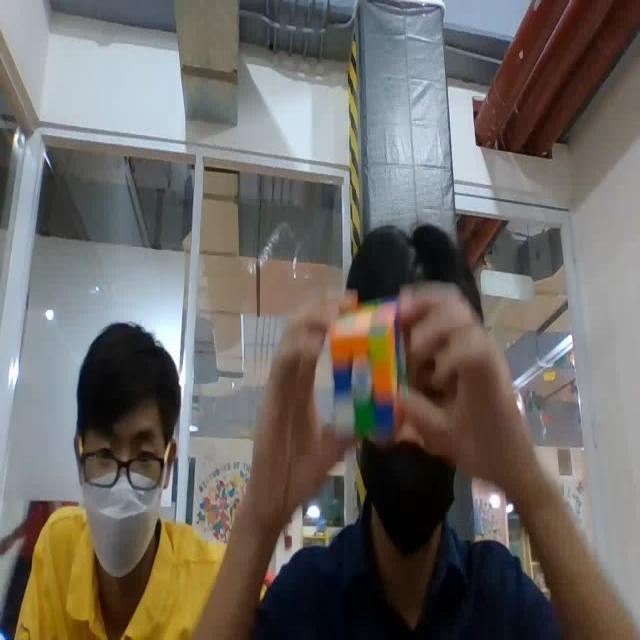Rub: (321, 302, 409, 440)
